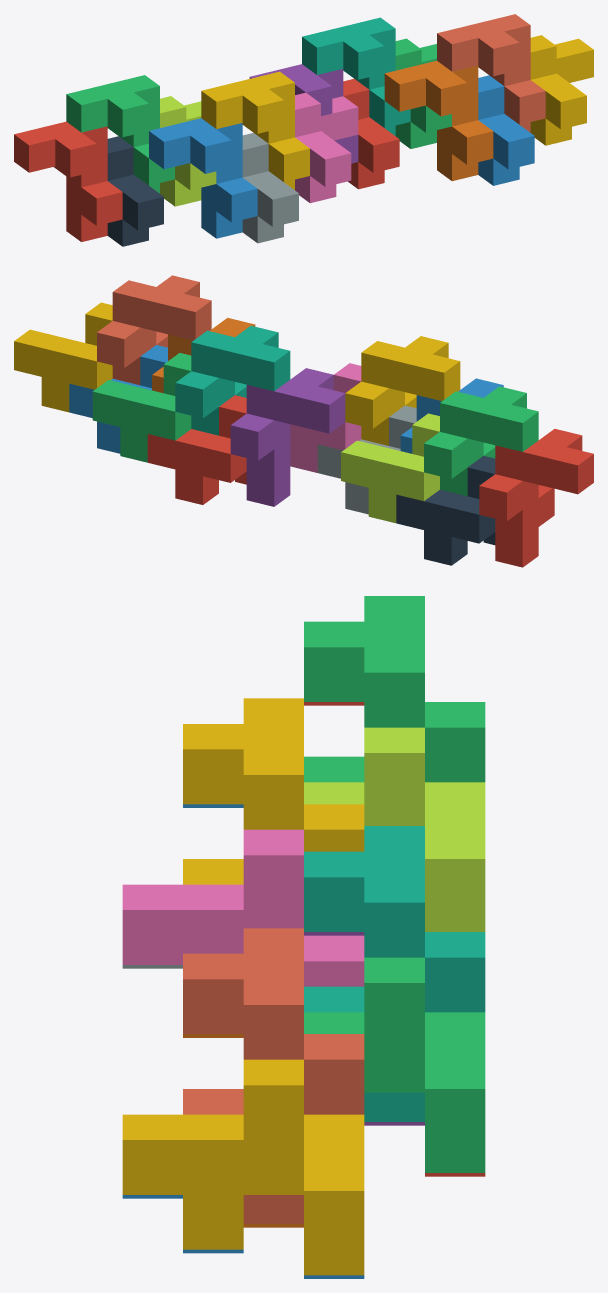
File: tiling.obj
The picture shows the model from 3 angles, top to bottom: view 1: azimuth 30°, elevation 25°; view 2: azimuth 150°, elevation 25°; view 3: azimuth 270°, elevation 25°; orthographic projection. The views are drawn at different scales.
Parts seen in each view (by area): view 1: copy_1_domain_1, copy_1_domain_6, copy_1_domain_2, copy_1_domain_8, copy_1_domain_4, copy_1_domain_7, copy_1_domain_3, copy_2_domain_8, copy_2_domain_4, copy_2_domain_1, copy_2_domain_2, copy_2_domain_6 (+4 smaller); view 2: copy_1_domain_1, copy_1_domain_5, copy_1_domain_7, copy_1_domain_4, copy_1_domain_3, copy_1_domain_8, copy_2_domain_1, copy_2_domain_7, copy_2_domain_5, copy_2_domain_3, copy_2_domain_8, copy_2_domain_4 (+4 smaller); view 3: copy_2_domain_8, copy_1_domain_7, copy_1_domain_8, copy_1_domain_3, copy_2_domain_7, copy_2_domain_4, copy_1_domain_4, copy_2_domain_3.
Boxes of the visible parts, x1=… form: copy_1_domain_1: x1=14, y1=121, x2=122, y2=241; copy_1_domain_6: x1=384, y1=60, x2=493, y2=181; copy_1_domain_2: x1=149, y1=118, x2=257, y2=238; copy_1_domain_8: x1=437, y1=14, x2=545, y2=132; copy_1_domain_4: x1=201, y1=71, x2=309, y2=189; copy_1_domain_7: x1=302, y1=17, x2=410, y2=135; copy_1_domain_3: x1=66, y1=75, x2=174, y2=193; copy_2_domain_8: x1=530, y1=35, x2=593, y2=145; copy_2_domain_4: x1=295, y1=92, x2=358, y2=203; copy_2_domain_1: x1=107, y1=136, x2=163, y2=246; copy_2_domain_2: x1=242, y1=133, x2=298, y2=243; copy_2_domain_6: x1=478, y1=75, x2=534, y2=185; copy_1_domain_1: x1=479, y1=429, x2=593, y2=567; copy_1_domain_5: x1=230, y1=368, x2=345, y2=506; copy_1_domain_7: x1=175, y1=325, x2=290, y2=435; copy_1_domain_4: x1=345, y1=336, x2=460, y2=445; copy_1_domain_3: x1=424, y1=386, x2=538, y2=496; copy_1_domain_8: x1=97, y1=275, x2=211, y2=385; copy_2_domain_1: x1=396, y1=456, x2=495, y2=565; copy_2_domain_7: x1=92, y1=353, x2=191, y2=462; copy_2_domain_5: x1=147, y1=395, x2=246, y2=504; copy_2_domain_3: x1=341, y1=413, x2=439, y2=523; copy_2_domain_8: x1=14, y1=302, x2=112, y2=412; copy_2_domain_4: x1=290, y1=363, x2=361, y2=472; copy_2_domain_8: x1=122, y1=1059, x2=364, y2=1275; copy_1_domain_7: x1=304, y1=826, x2=485, y2=1121; copy_1_domain_8: x1=183, y1=928, x2=364, y2=1223; copy_1_domain_3: x1=304, y1=596, x2=485, y2=782; copy_2_domain_7: x1=304, y1=957, x2=485, y2=1172; copy_2_domain_4: x1=122, y1=829, x2=364, y2=986; copy_1_domain_4: x1=183, y1=698, x2=364, y2=884; copy_2_domain_3: x1=304, y1=727, x2=485, y2=931.
Bounding box in the file's own units: 21 × 5 × 6.
